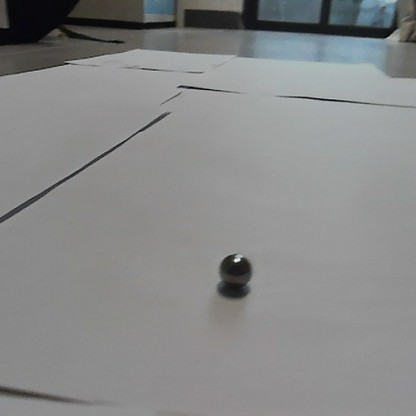ironball: (217, 248, 251, 288)
